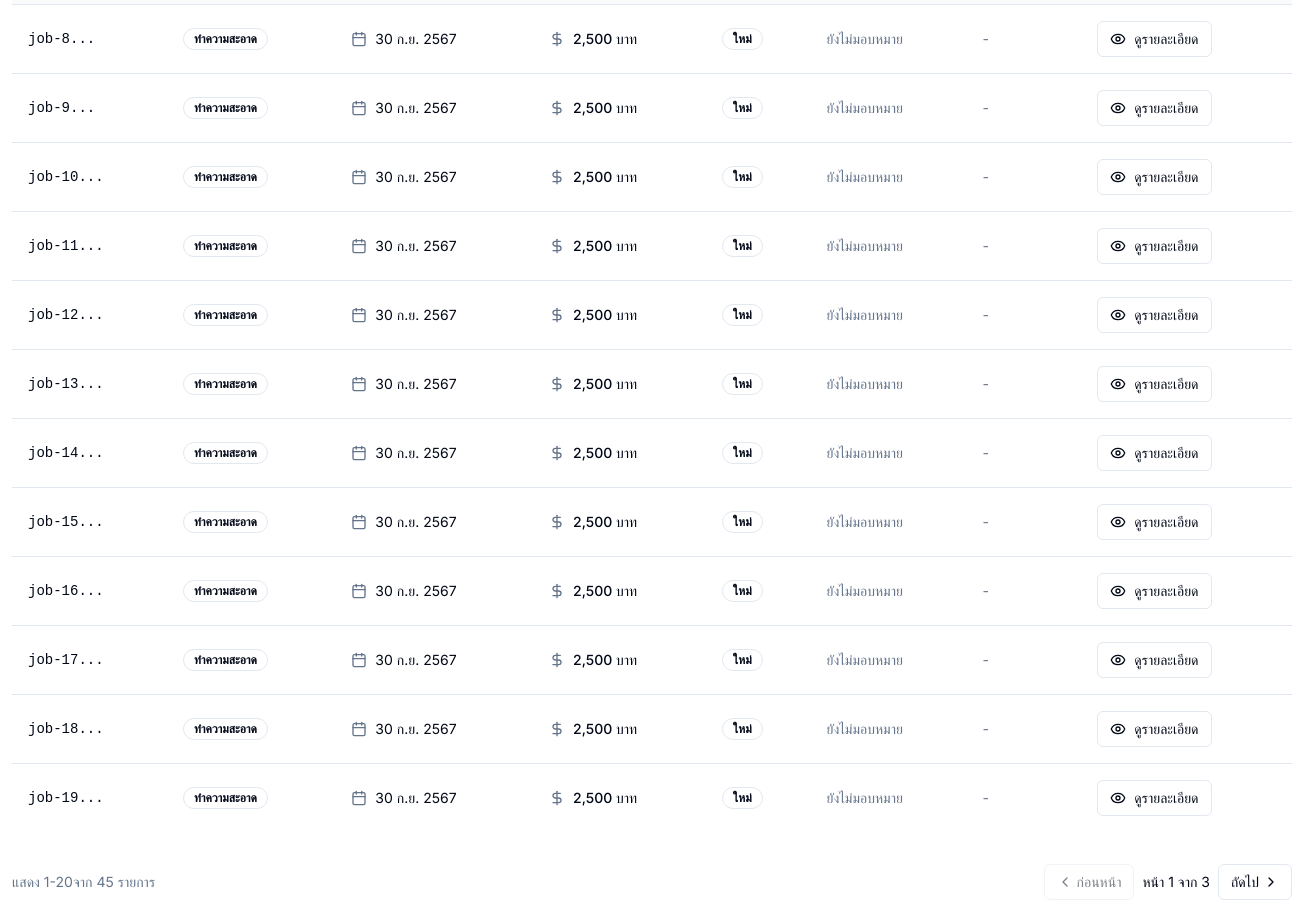
Test: JobHistoryList › should handle pagination correctly
(page scrolled)
Expected: the text "แสดง 1-20จาก 45 รายการ" is shown, x1=12 y1=872 x2=155 y2=892
Expected: the text "หน้า 1 จาก 3" is shown, x1=1142 y1=872 x2=1210 y2=892
Click next page
Click the button "ถัดไป". click: click(1255, 882)
box: x1=1218 y1=864 x2=1292 y2=899
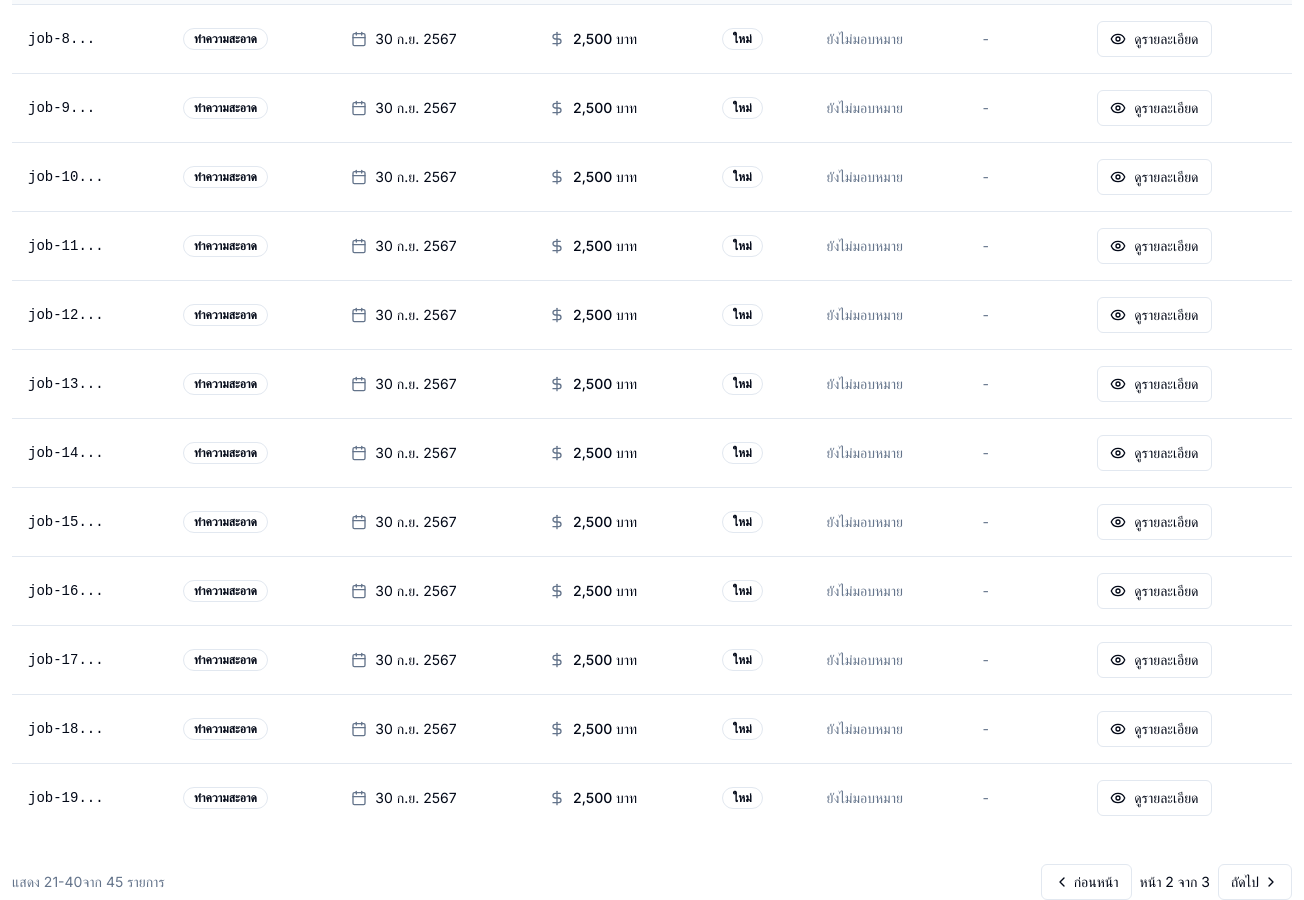
Expected: the text "แสดง 21-40จาก 45 รายการ" is shown, x1=12 y1=872 x2=165 y2=892
Expected: the text "หน้า 2 จาก 3" is shown, x1=1140 y1=872 x2=1210 y2=892
Expected: the button "ก่อนหน้า" is enabled, x1=1041 y1=864 x2=1132 y2=899
